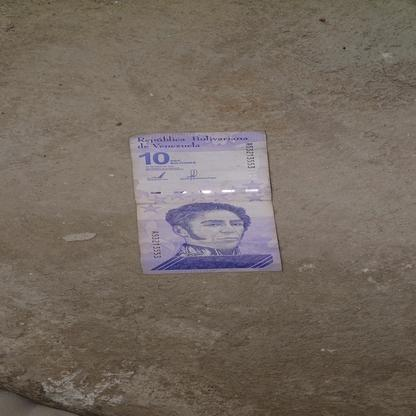ten-front-vef: (128, 130, 282, 274)
